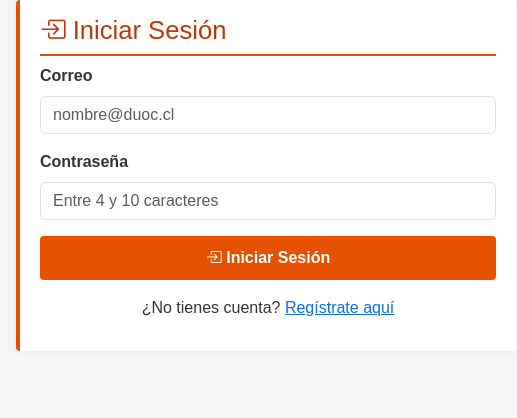
Scenario: Componente Login › muestra errores de validación si el formulario se envía vacío
Click the button "Iniciar Sesión".
click(268, 258)  # box [40,236,496,280]
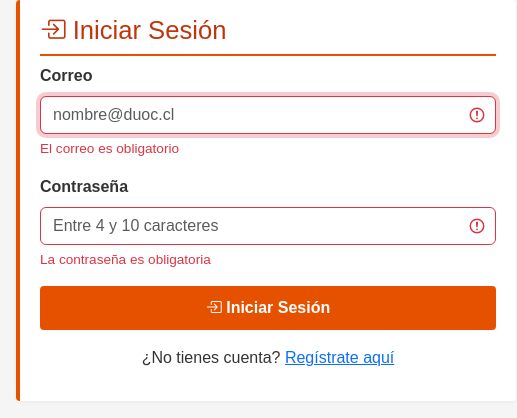
Check: the text "El correo es obligatorio" is shown, box [40,141,179,156]
Check: the text "La contraseña es obligatoria" is shown, box [40,252,211,267]
